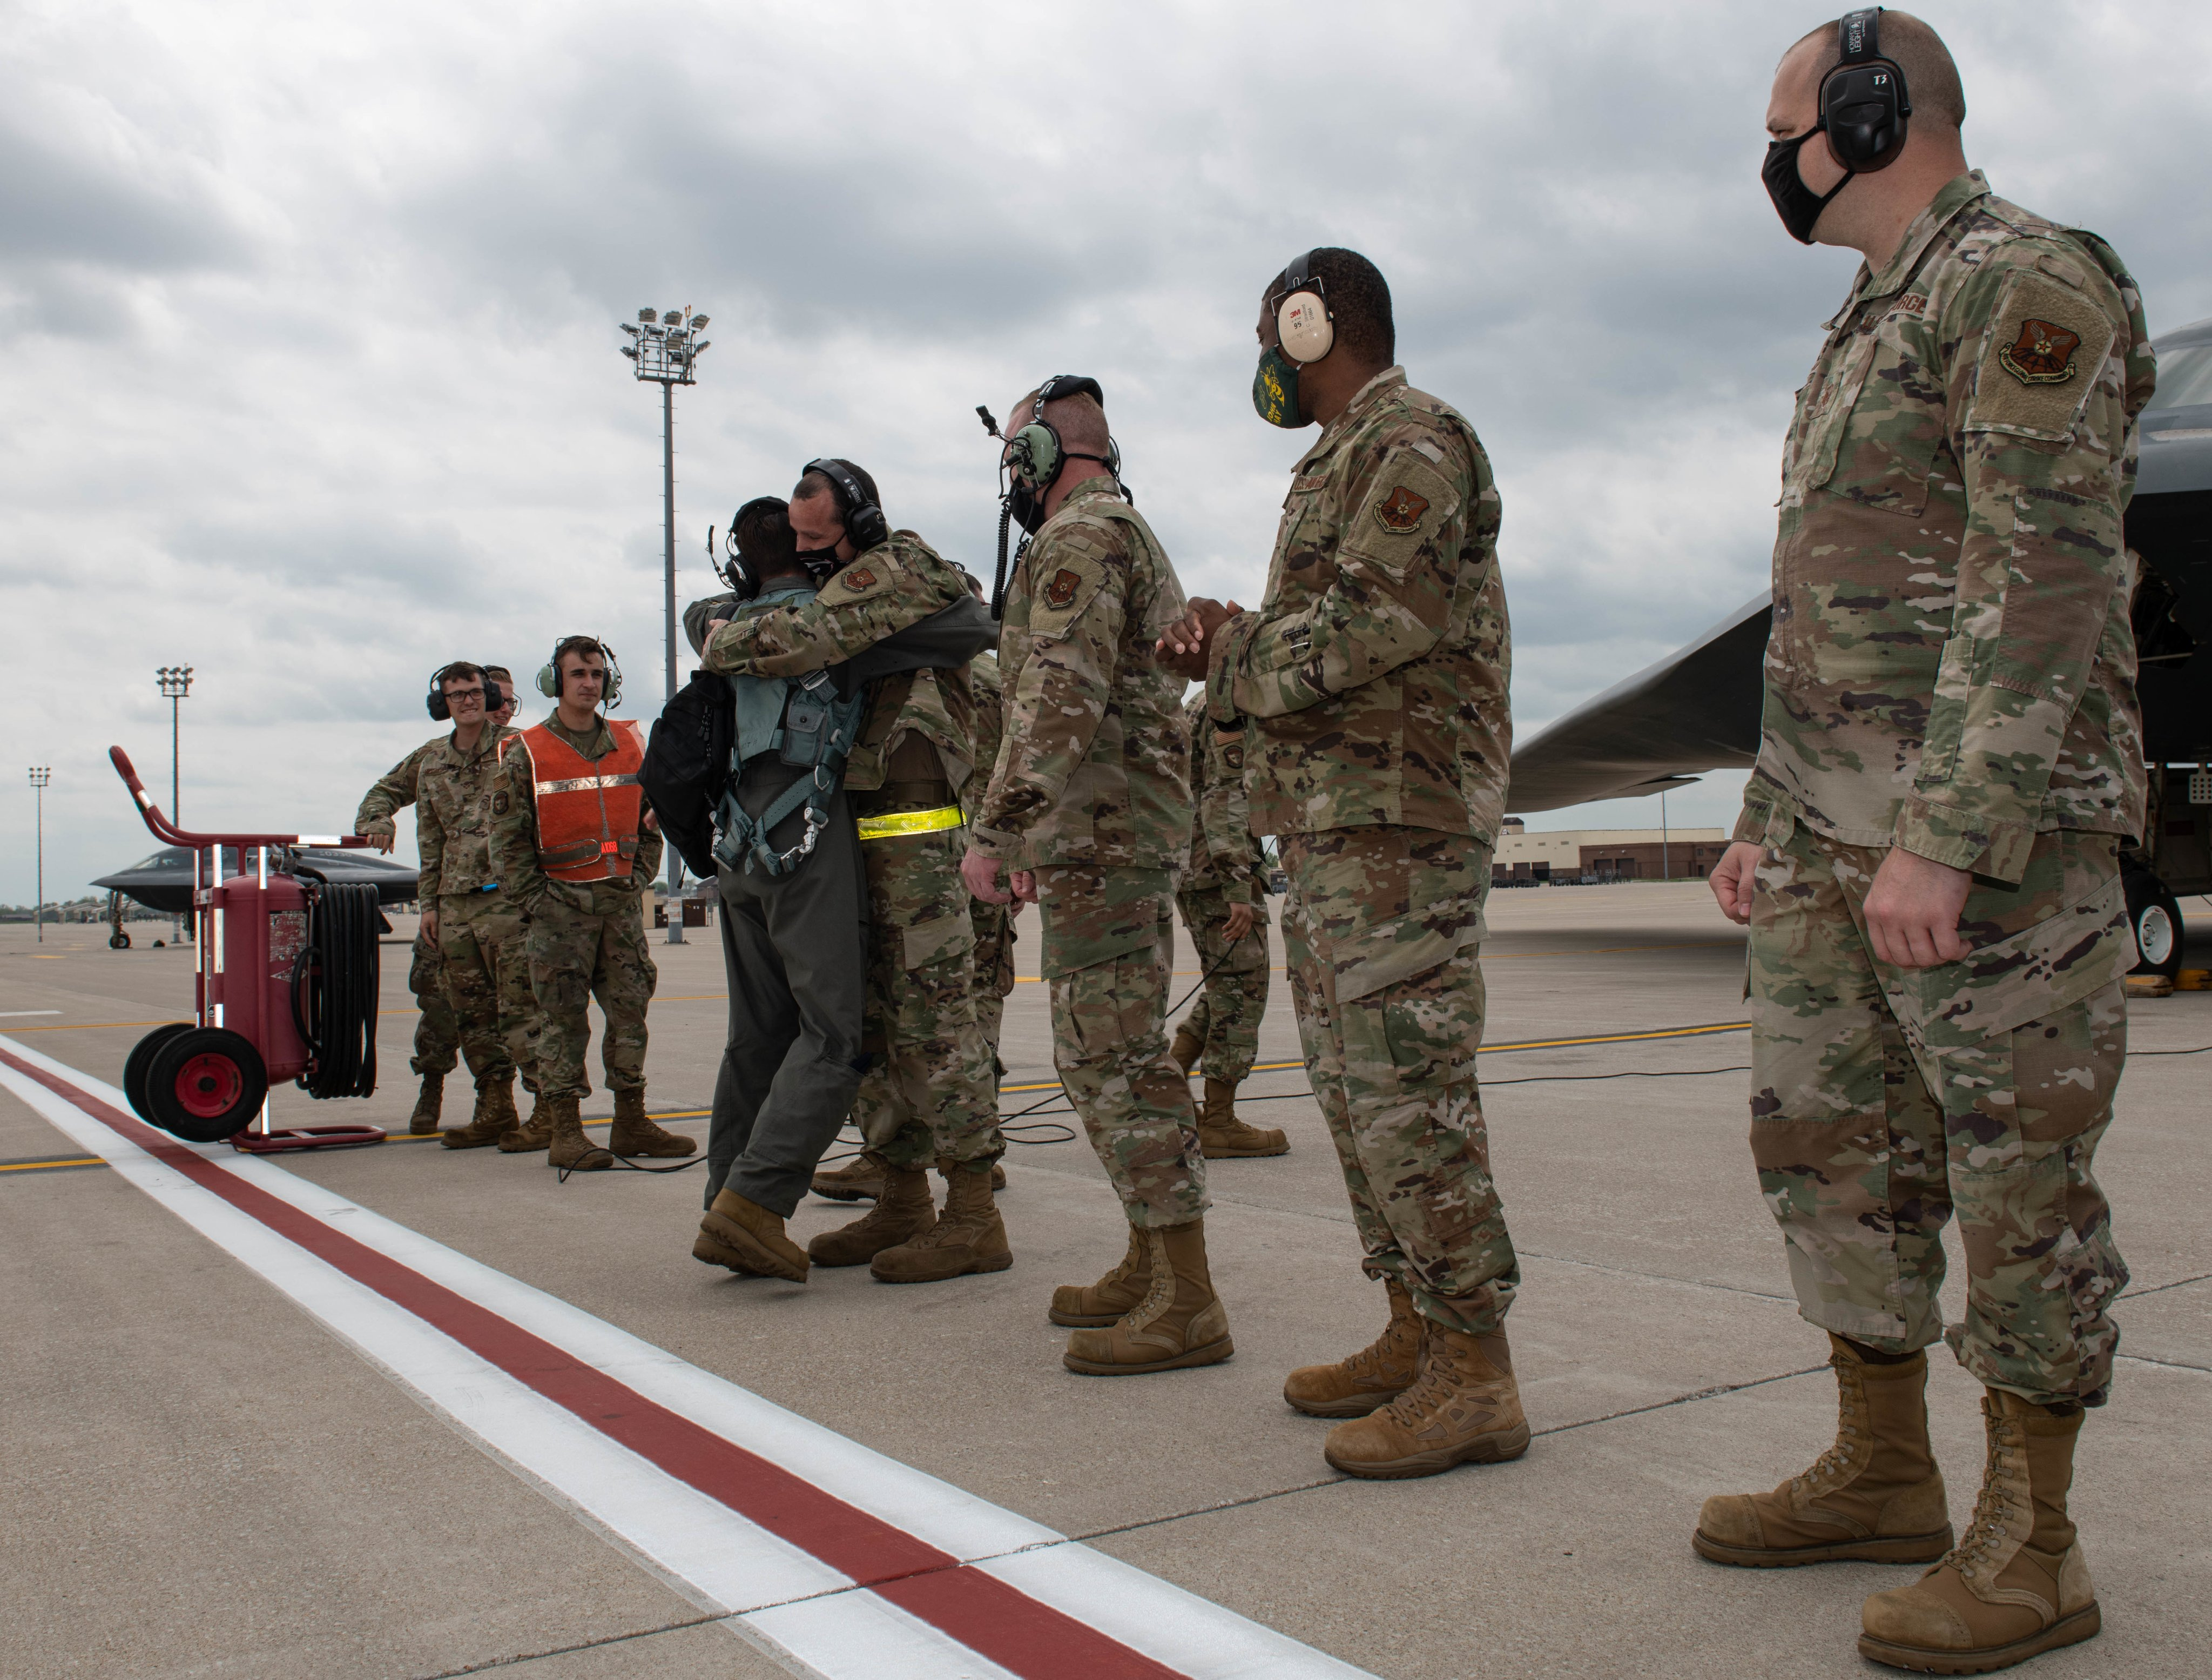B2: (1503, 316, 2212, 983), (86, 847, 420, 949)
